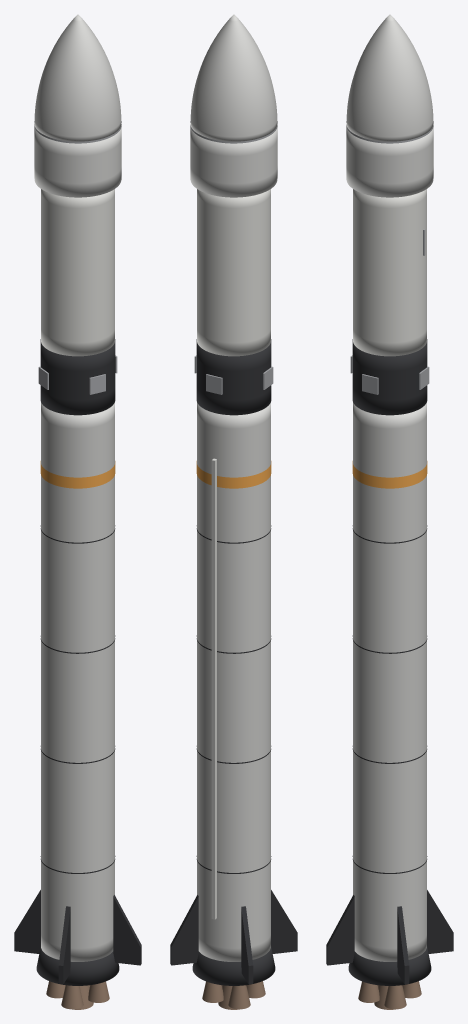
Rendered from roket.glb.
3 renders of one model, left to right at view 1: azimuth 30°, elevation 25°; view 2: azimuth 150°, elevation 25°; view 3: azimuth 330°, elevation 25°, orthographic.
Parts seen in each view (by area): view 1: Kademe1, Kademe2, Burun, Kaporta, AraKademe, MotorEtegi, Kanatcik_3, Kanatcik_1, Serit, Kanatcik_2, Motor_3, Motor_4; view 2: Kademe1, Kademe2, Burun, Kaporta, AraKademe, KabloKanali, MotorEtegi, Kanatcik_0, Kanatcik_2, Serit, Kanatcik_1, Motor_2 (+1 smaller); view 3: Kademe1, Kademe2, Burun, Kaporta, AraKademe, MotorEtegi, Kanatcik_2, Kanatcik_0, Serit, Kanatcik_3, Motor_4, Motor_3.
Boxes of the visible parts, x1,y1,x2,y2 form: Kademe1: (41,402,114,961); Kademe2: (41,189,114,356); Burun: (34,14,121,141); Kaporta: (34,124,121,197); AraKademe: (40,339,115,415); MotorEtegi: (36,946,119,985); Kanatcik_3: (113,895,141,965); Kanatcik_1: (14,890,40,953); Serit: (40,461,115,488); Kanatcik_2: (58,906,70,984); Motor_3: (61,985,83,1009); Motor_4: (88,981,109,1002); Kademe1: (197,402,270,961); Kademe2: (197,189,270,356); Burun: (190,14,277,141); Kaporta: (190,124,277,197); AraKademe: (196,339,271,415); KabloKanali: (211,458,216,919); MotorEtegi: (192,946,275,985); Kanatcik_0: (170,895,198,965); Kanatcik_2: (271,890,297,953); Serit: (196,461,271,488); Kanatcik_1: (241,906,253,984); Motor_2: (228,985,250,1009); Kademe1: (353,402,426,961); Kademe2: (353,189,426,356); Burun: (346,14,433,141); Kaporta: (346,124,433,197); AraKademe: (352,339,427,415); MotorEtegi: (348,946,431,985); Kanatcik_2: (326,895,354,965); Kanatcik_0: (427,890,453,953); Serit: (352,461,427,488); Kanatcik_3: (397,906,409,984); Motor_4: (384,985,406,1009); Motor_3: (358,981,379,1002).
Size of the model in its own units: 4.74 by 53.9 by 4.74.
